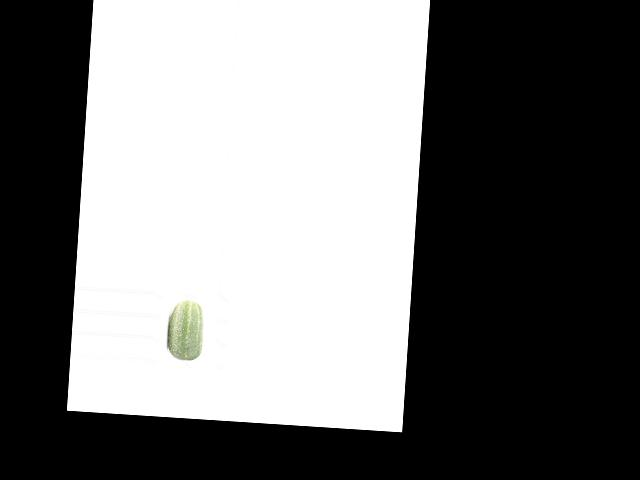cucumber: (166, 300, 204, 362)
